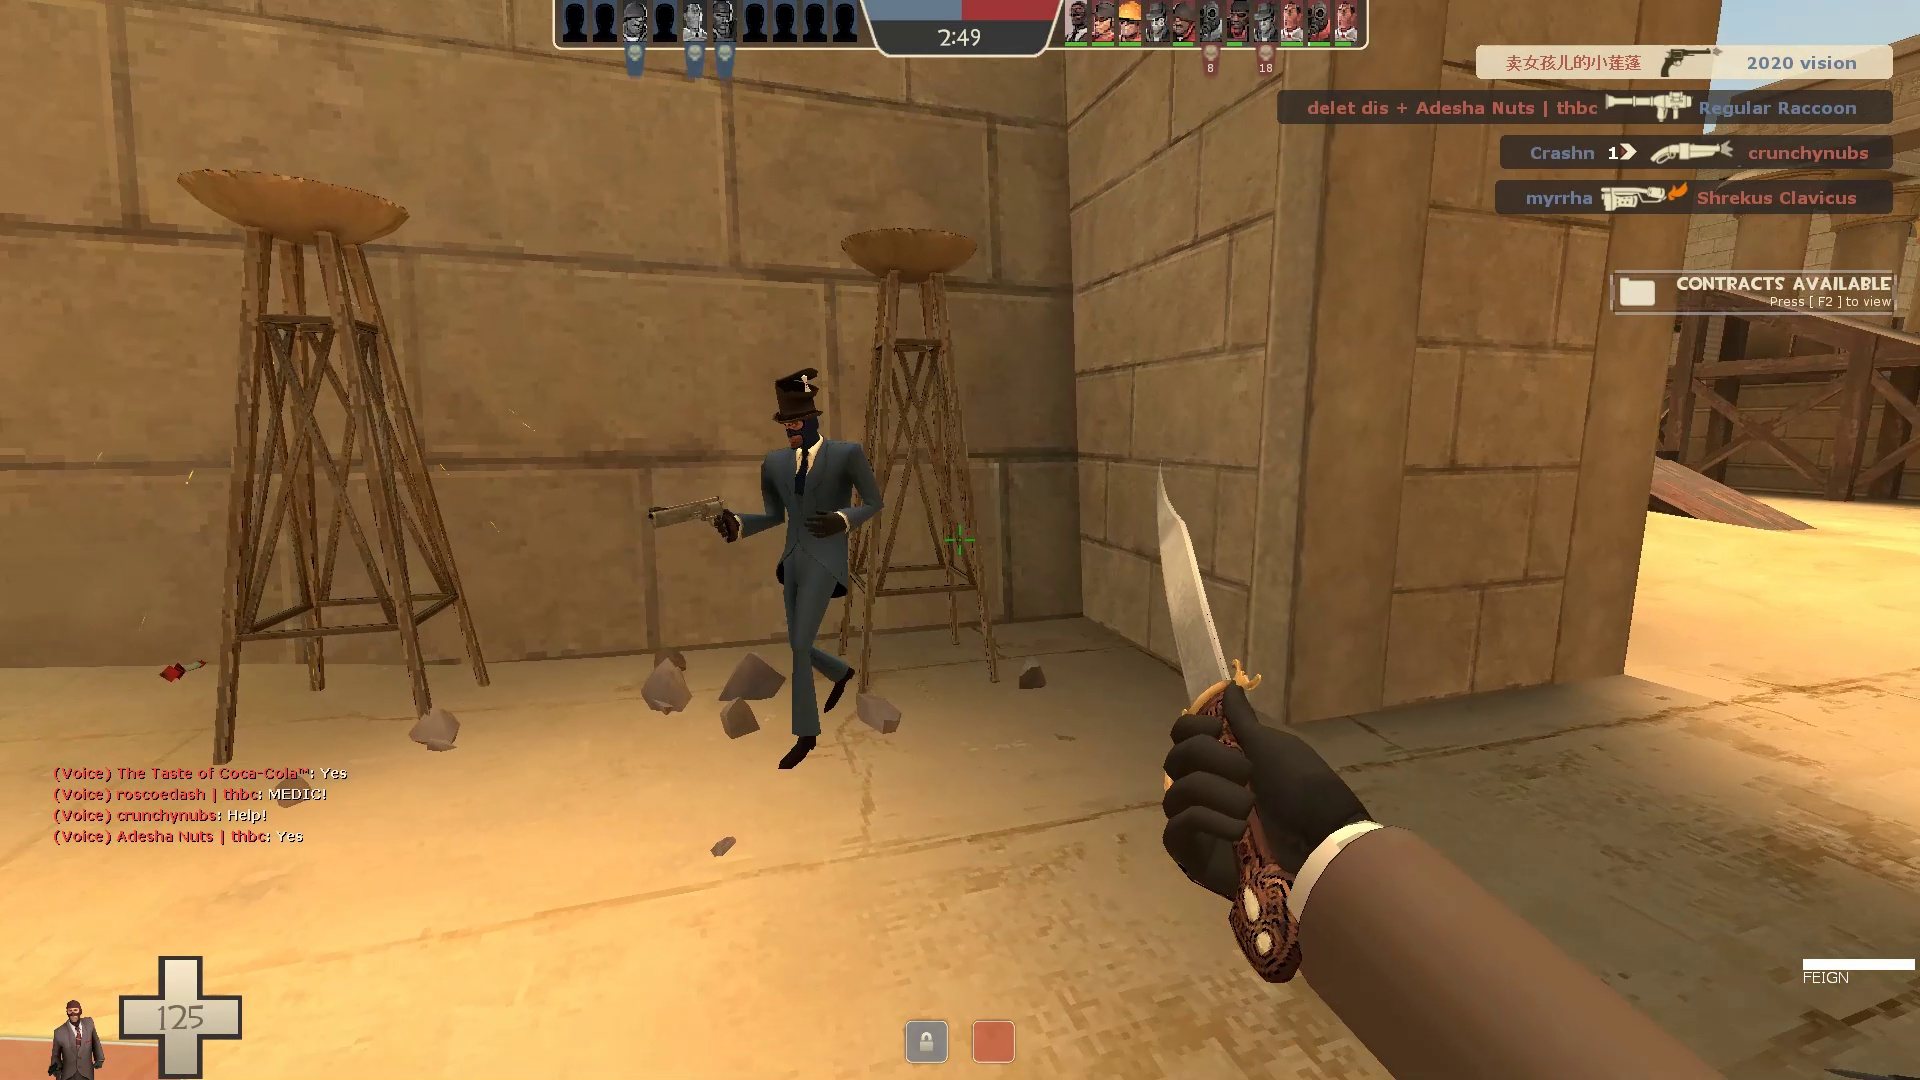blu_spy: (633, 365, 893, 779)
